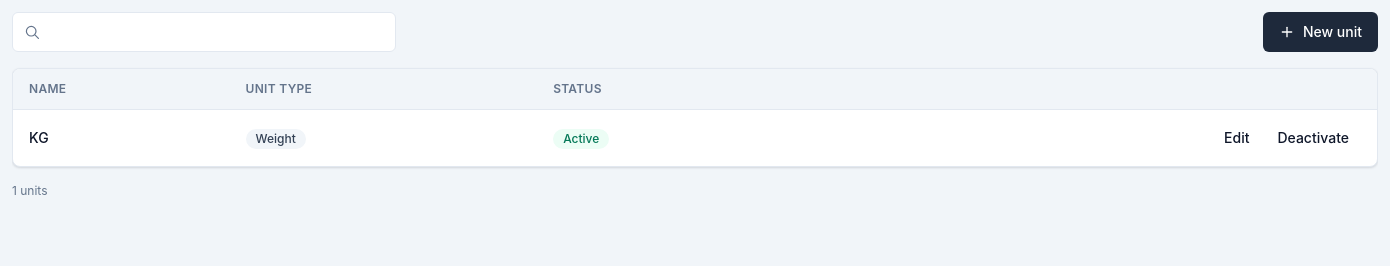
UomMasterPanel › surfaces an error instead of silently doing nothing when a toggle fails
Check: the text "KG" is shown, box x1=13 y1=110 x2=230 y2=166
Click the button "Deactivate": (1313, 138) x1=1266 y1=122 x2=1361 y2=154
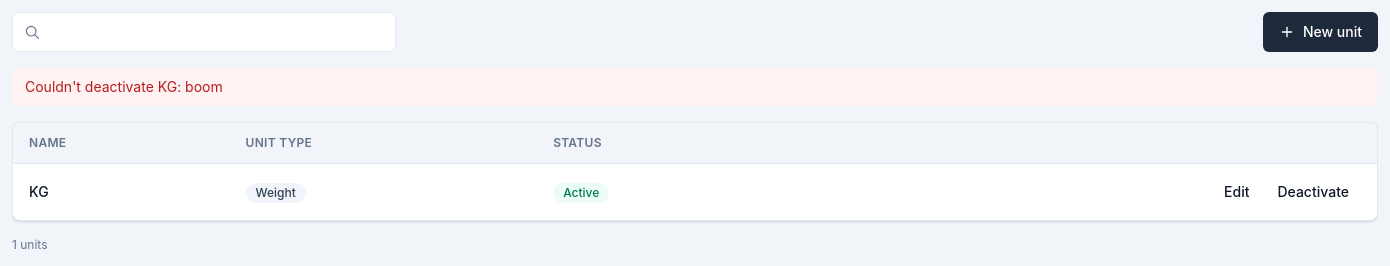
Check: the text "KG" is shown, box x1=13 y1=164 x2=230 y2=220
Check: the text "Couldn't deactivate KG: boom" is shown, box x1=12 y1=68 x2=1378 y2=106
